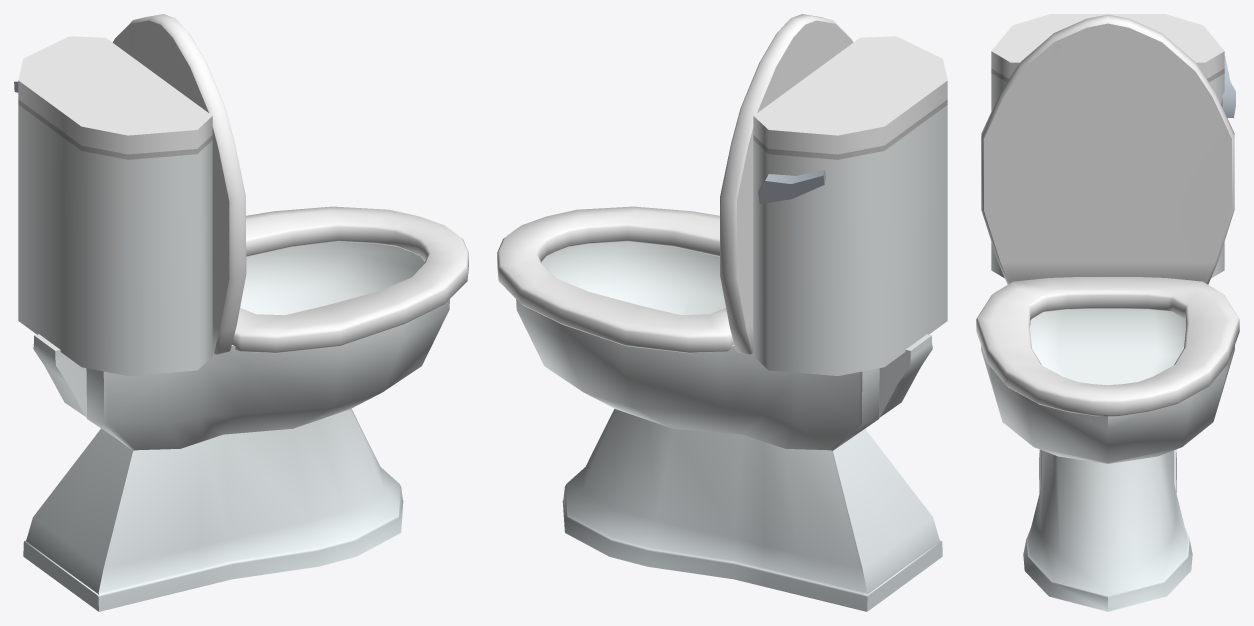
Rendered from toilet.fbx.
The picture shows the model from 3 angles, left to right: view 1: azimuth 30°, elevation 25°; view 2: azimuth 150°, elevation 25°; view 3: azimuth 270°, elevation 25°; orthographic projection. The views are drawn at different scales.
Visible parts, largest first — view 1: toilet; view 2: toilet; view 3: toilet.
Part boxes in pixels (box(x1,y1,x2,y2)): toilet: box(14, 14, 468, 611); toilet: box(497, 14, 947, 611); toilet: box(976, 14, 1239, 611).
Bounding box in the file's own units: 8.53 × 10.68 × 5.2.
1 material, 1 textured.
